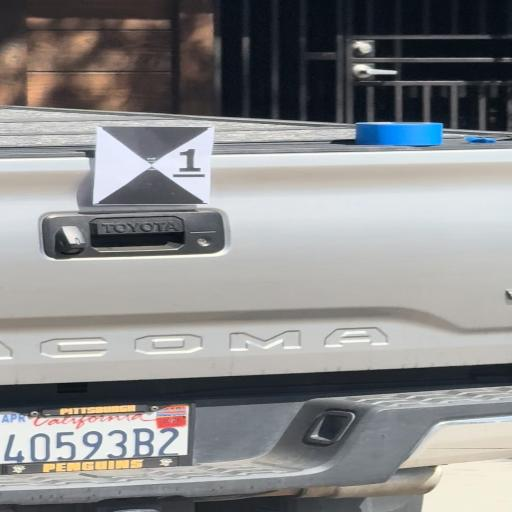target1: (97, 127, 209, 203)
